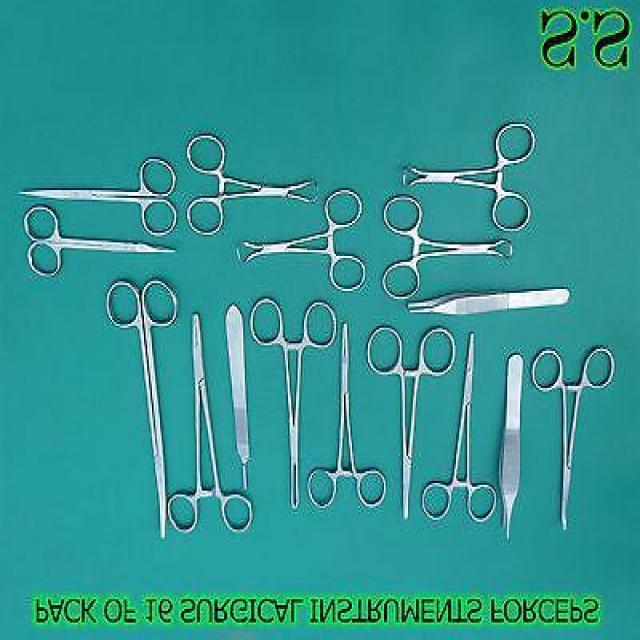Forceps: (404, 285, 572, 318), (500, 351, 524, 543)
Hemostat: (363, 322, 459, 524), (530, 344, 616, 532), (306, 320, 388, 512), (419, 330, 499, 526)
Iris: (18, 156, 179, 240), (22, 202, 180, 280)
Mayo_metz: (104, 277, 181, 543)
Scalpel: (224, 300, 253, 492)
Towel_clip: (400, 118, 536, 235), (379, 192, 515, 303), (184, 130, 320, 237), (235, 186, 368, 293)
